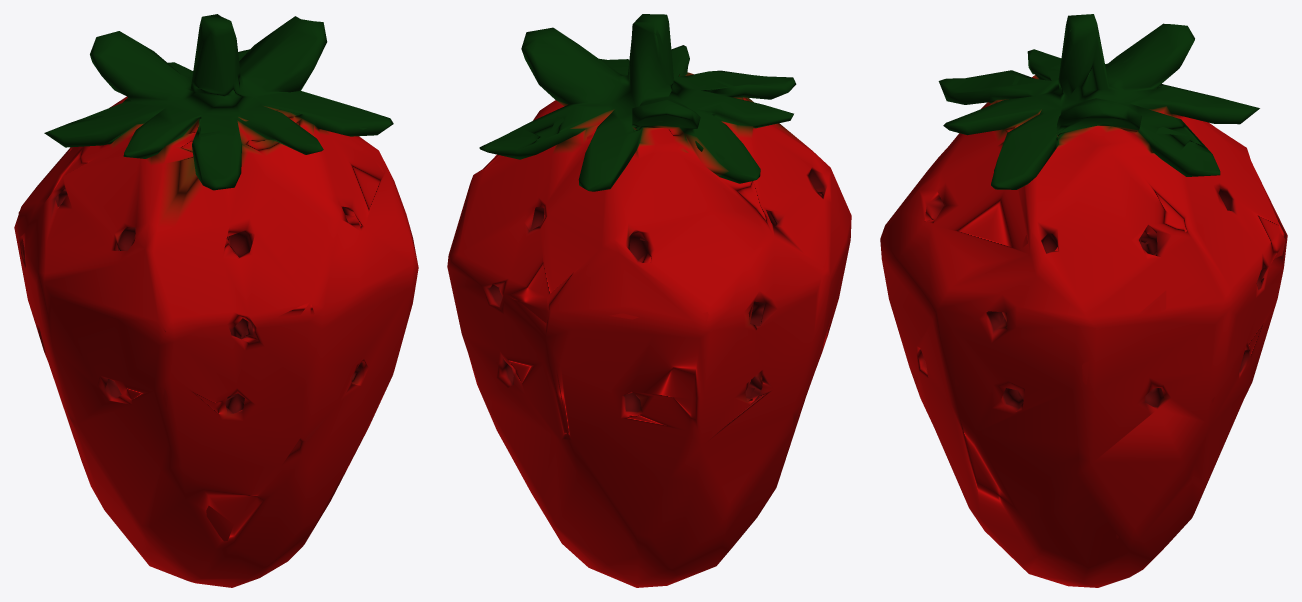
Rendered from gen3d-strawberry-lod0.glb.
3 renders of one model, left to right at view 1: azimuth 30°, elevation 25°; view 2: azimuth 150°, elevation 25°; view 3: azimuth 270°, elevation 25°, orthographic.
Parts seen in each view (by area): view 1: part_0; view 2: part_0; view 3: part_0.
Part boxes in pixels (left/top/right/bottom): part_0: left=14, top=14, right=418, bottom=587; part_0: left=447, top=14, right=851, bottom=587; part_0: left=880, top=14, right=1287, bottom=587.
Size of the model in its own units: 0.653 by 0.996 by 0.6529.
